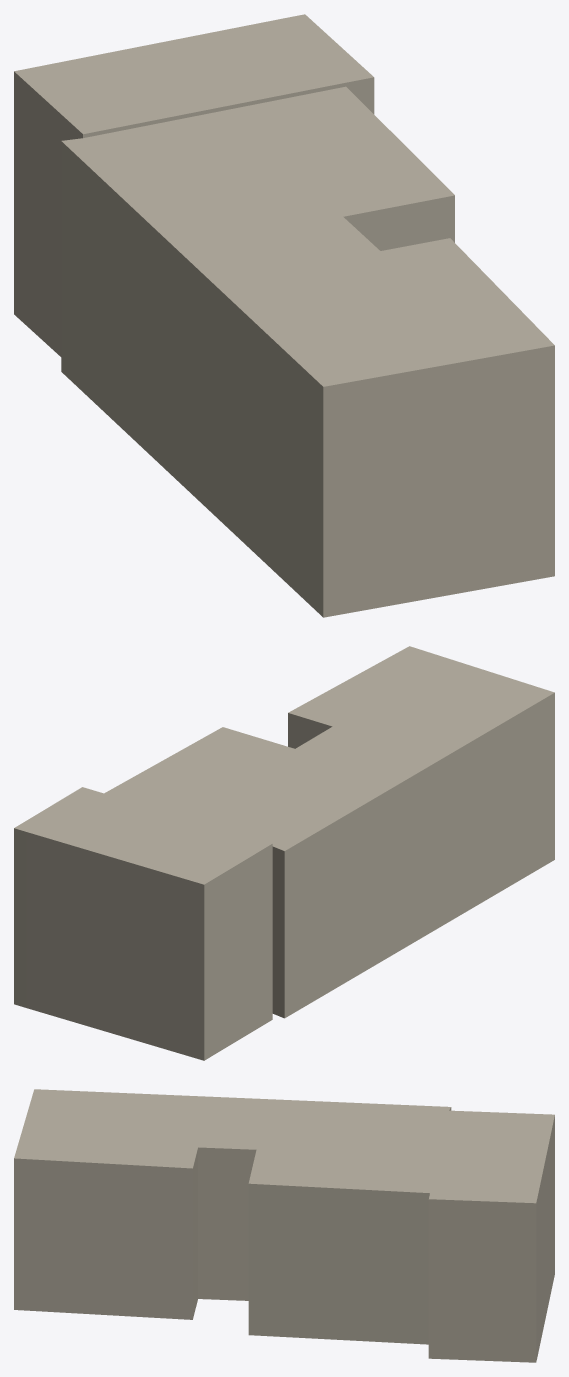
File: senglea_56_30_mid.glb
3 views of the same model, one above another, from view 1: azimuth 30°, elevation 25°; view 2: azimuth 150°, elevation 25°; view 3: azimuth 270°, elevation 25° (orthographic). The views are drawn at different scales.
Visible parts, largest first — view 1: geometry_0; view 2: geometry_0; view 3: geometry_0.
Part boxes in pixels (x1,y1,x2,y2): geometry_0: (14, 14, 554, 617); geometry_0: (14, 646, 554, 1060); geometry_0: (14, 1089, 554, 1362).
Bounding box in the file's own units: 23.58 × 15.04 × 46.24.
